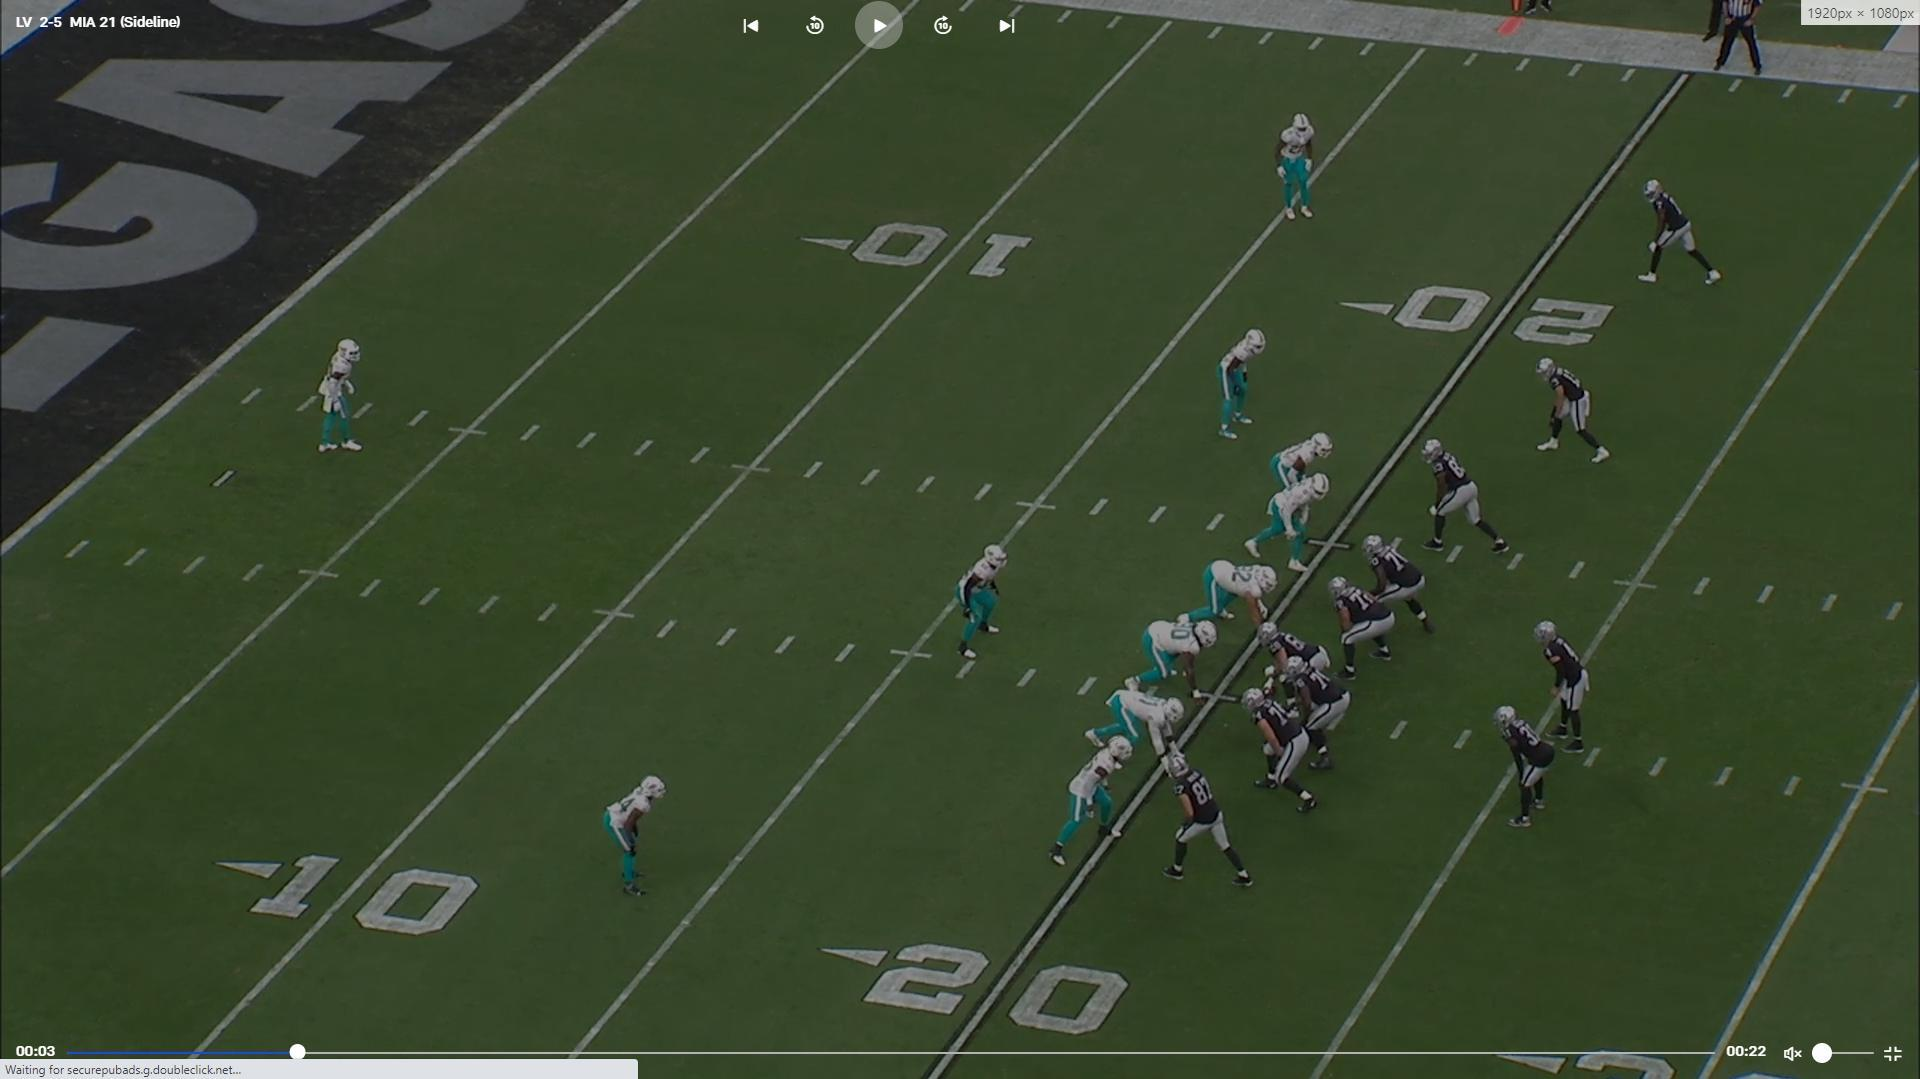defense: (1042, 733, 1132, 869), (1239, 472, 1332, 577), (606, 770, 671, 902), (1130, 617, 1224, 701), (1082, 689, 1191, 761), (952, 537, 1011, 670), (1188, 558, 1285, 631), (1216, 322, 1273, 446), (315, 333, 368, 461), (1271, 110, 1322, 231), (1272, 431, 1336, 495)
oline: (1249, 690, 1321, 819), (1362, 535, 1438, 642), (1330, 574, 1399, 679), (1292, 660, 1356, 772), (1258, 621, 1330, 681)
qb: (1535, 617, 1599, 759)
ref: (1706, 1, 1767, 81)
skill: (1169, 755, 1262, 891), (1425, 433, 1516, 559), (1640, 175, 1729, 292), (1535, 352, 1620, 473), (1494, 706, 1553, 832)
